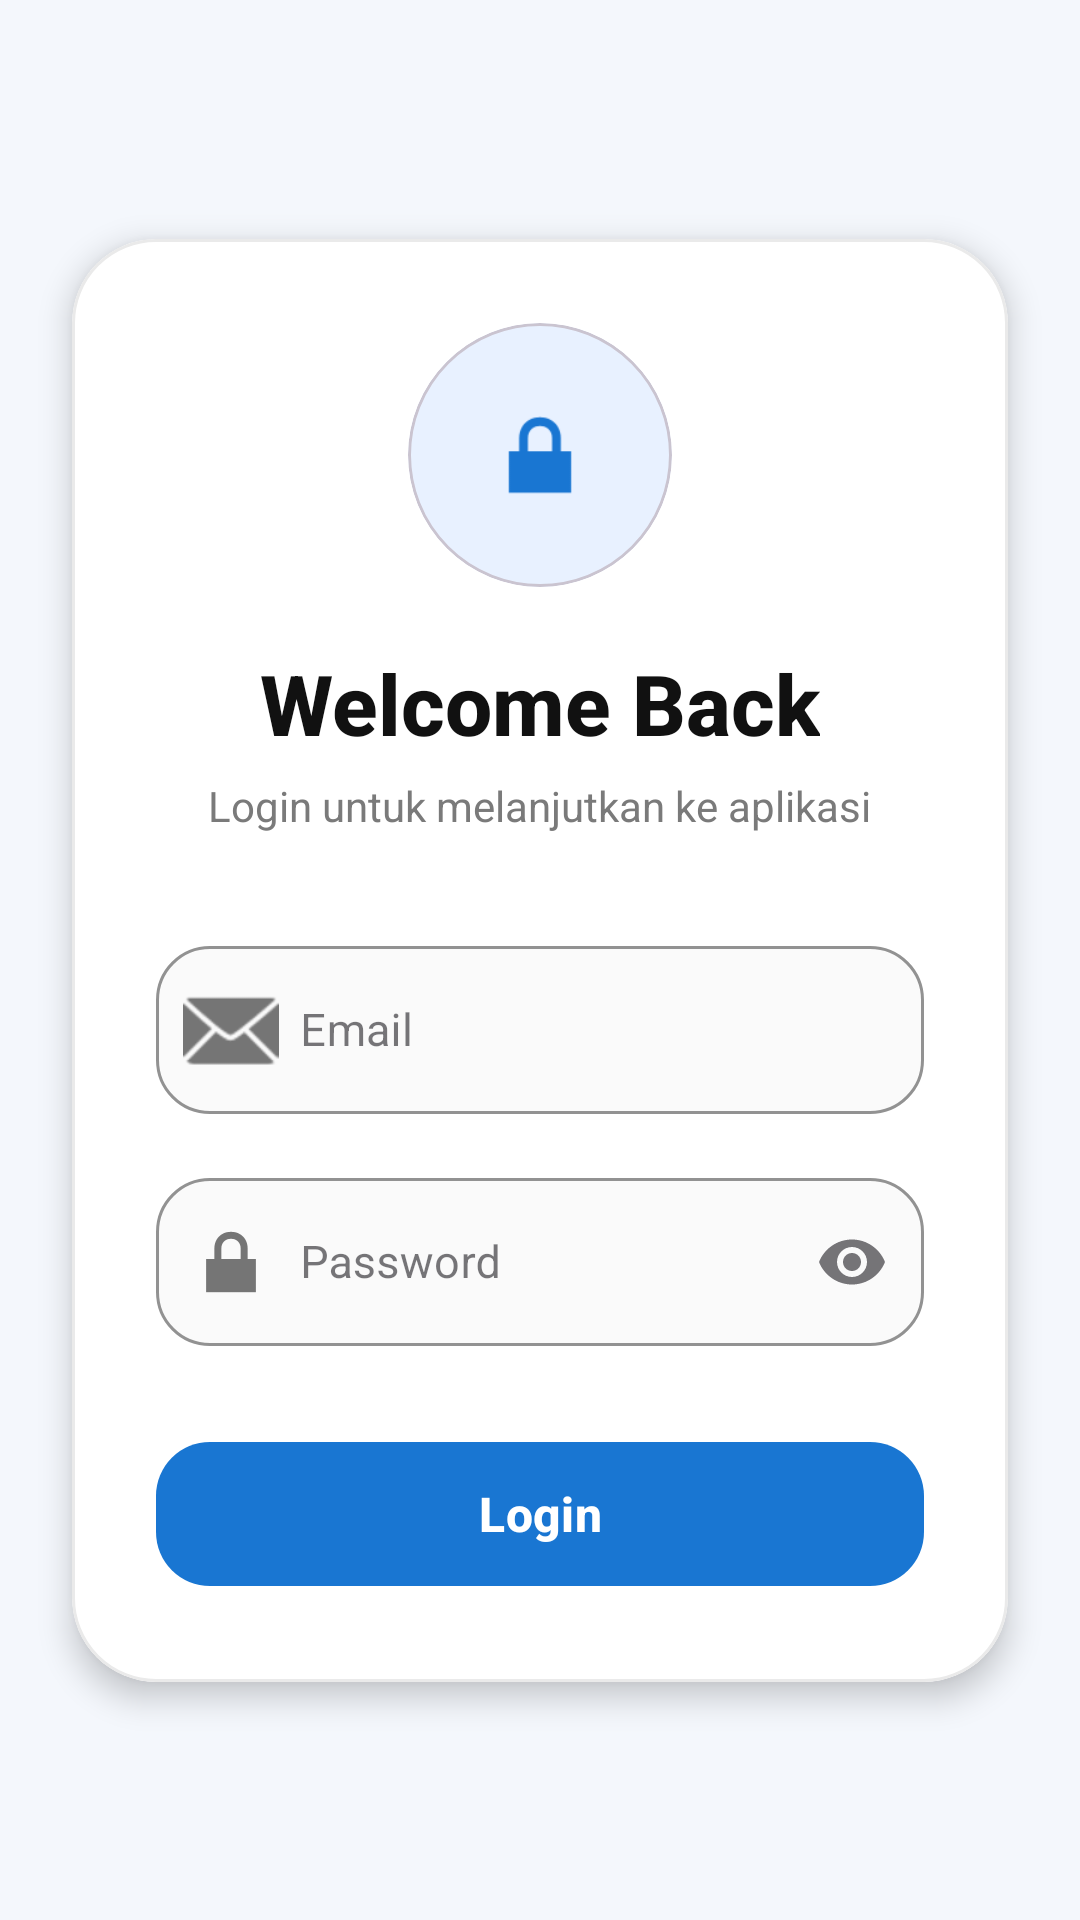

Where icons sit on this 1080px×1920px app screen, as (x1,y1,x2,y2):
lock: (508,416,572,494)
